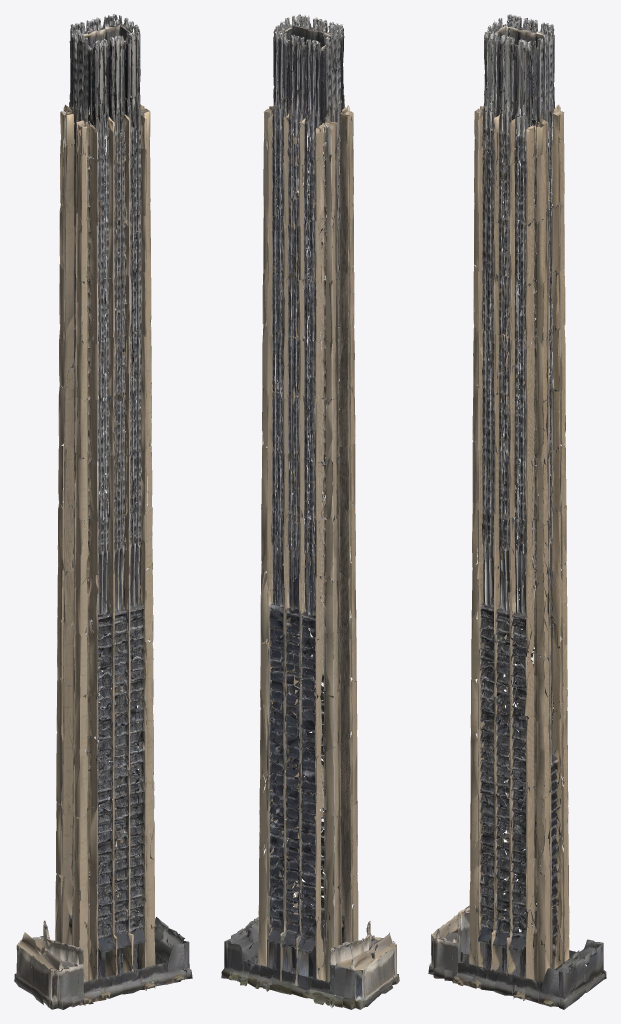
Rendered from index-tower.glb.
3 views of the same model, side by side, from view 1: azimuth 30°, elevation 25°; view 2: azimuth 150°, elevation 25°; view 3: azimuth 330°, elevation 25° (orthographic).
Parts seen in each view (by area): view 1: Mesh_0; view 2: Mesh_0; view 3: Mesh_0.
Part boxes in pixels (<box>): Mesh_0: <box>14,14,192,1009</box>; Mesh_0: <box>221,14,399,1009</box>; Mesh_0: <box>428,14,606,1009</box>.
Size of the model in its own units: 50 by 328 by 30.
1 material, 1 textured.
